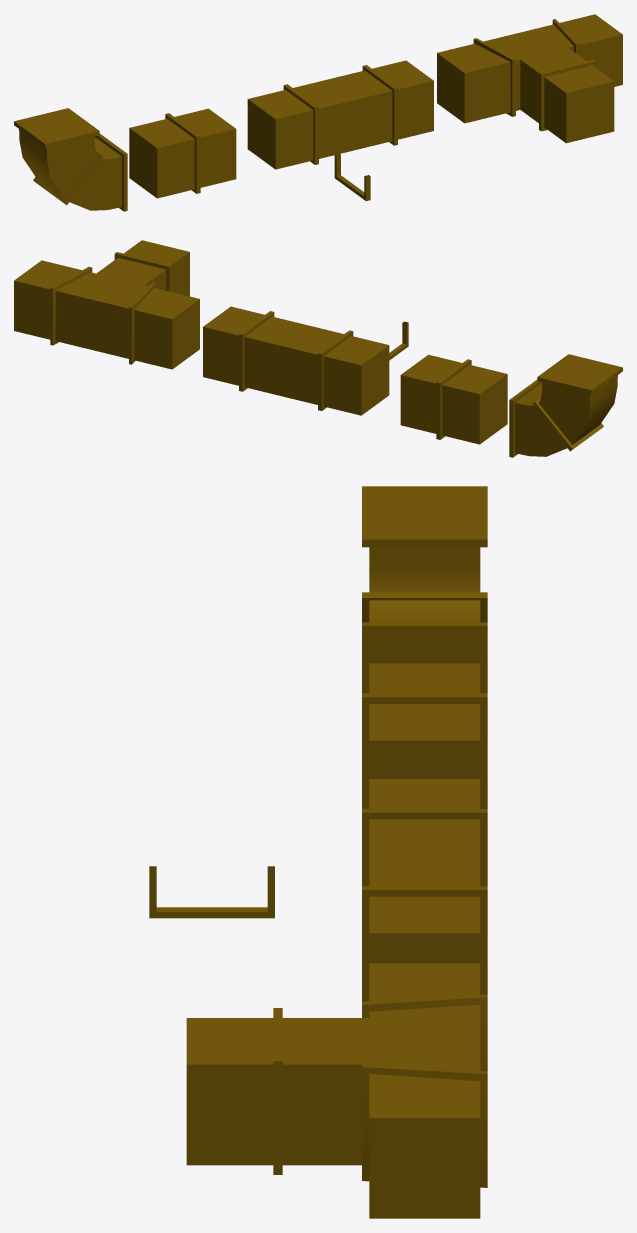
The model's file is MESH_RooftopDeco_PackOne.fbx.
The picture shows the model from 3 angles, top to bottom: view 1: azimuth 30°, elevation 25°; view 2: azimuth 150°, elevation 25°; view 3: azimuth 270°, elevation 25°; orthographic projection. The views are drawn at different scales.
Parts seen in each view (by area): view 1: MESH_VentIntersection, MESH_VentShort3, MESH_VentCorner, MESH_VentShort, MESH_VentSupport; view 2: MESH_VentIntersection, MESH_VentShort3, MESH_VentCorner, MESH_VentShort; view 3: MESH_VentIntersection, MESH_VentShort3, MESH_VentCorner, MESH_VentShort, MESH_VentSupport.
Part boxes in pixels (bbox=[...]): MESH_VentIntersection: bbox=[437, 14, 622, 143]; MESH_VentShort3: bbox=[247, 60, 433, 169]; MESH_VentCorner: bbox=[14, 108, 127, 211]; MESH_VentShort: bbox=[129, 108, 236, 198]; MESH_VentSupport: bbox=[334, 153, 370, 201]; MESH_VentIntersection: bbox=[14, 240, 199, 369]; MESH_VentShort3: bbox=[203, 306, 389, 415]; MESH_VentCorner: bbox=[509, 354, 622, 457]; MESH_VentShort: bbox=[400, 354, 507, 444]; MESH_VentIntersection: bbox=[186, 963, 487, 1218]; MESH_VentShort3: bbox=[362, 779, 487, 1001]; MESH_VentCorner: bbox=[362, 486, 487, 693]; MESH_VentShort: bbox=[362, 663, 487, 808]; MESH_VentSupport: bbox=[149, 866, 274, 918].
Bounding box in the file's own units: 7.32 × 1.05 × 1.85.
